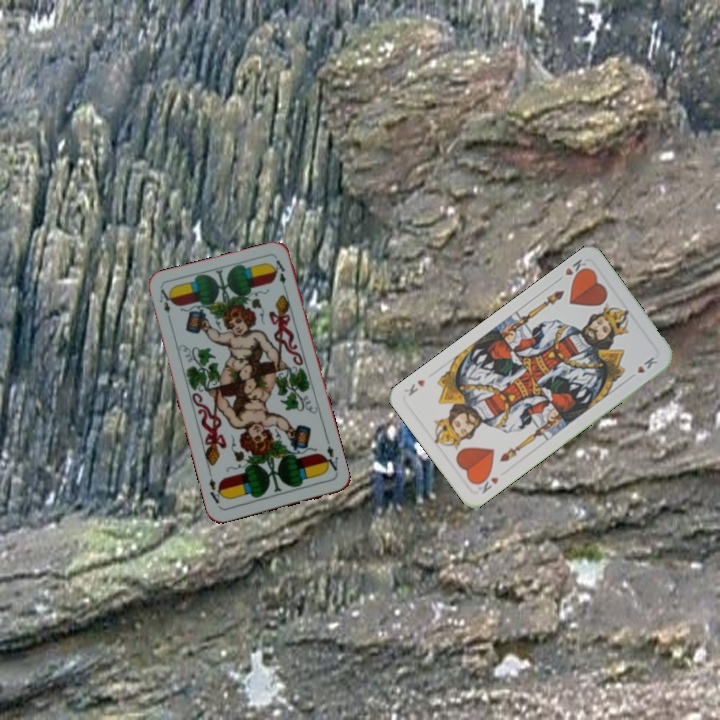EA: (319, 437, 341, 476), (155, 285, 175, 325)
HK: (552, 255, 591, 284), (472, 470, 501, 496)
